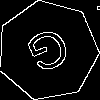G: (23, 25, 78, 84)
